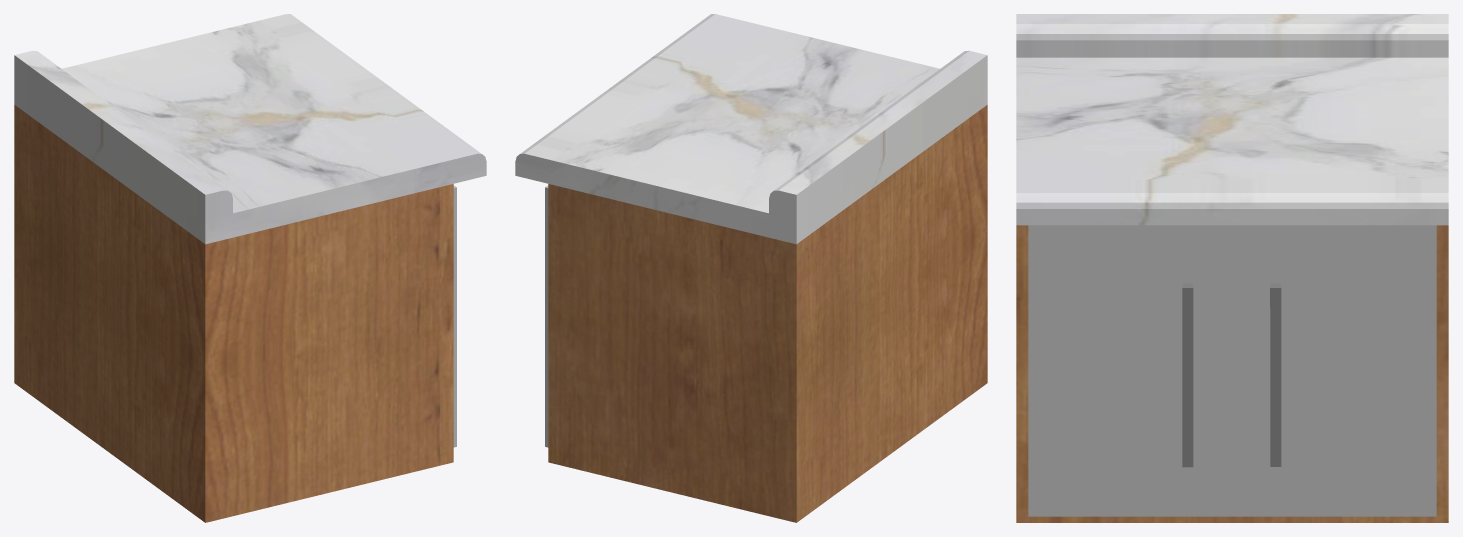
The model's file is countertop.fbx.
3 views of the same model, side by side, from view 1: azimuth 30°, elevation 25°; view 2: azimuth 150°, elevation 25°; view 3: azimuth 270°, elevation 25° (orthographic). The views are drawn at different scales.
Visible parts, largest first — view 1: Cube; view 2: Cube; view 3: Cube.
Part boxes in pixels (box(x1,y1,x2,y2)): Cube: box(14, 14, 486, 522); Cube: box(515, 14, 987, 522); Cube: box(1016, 14, 1448, 522).
Bounding box in the file's own units: 136 × 152 × 160.
4 materials, 2 textured.
